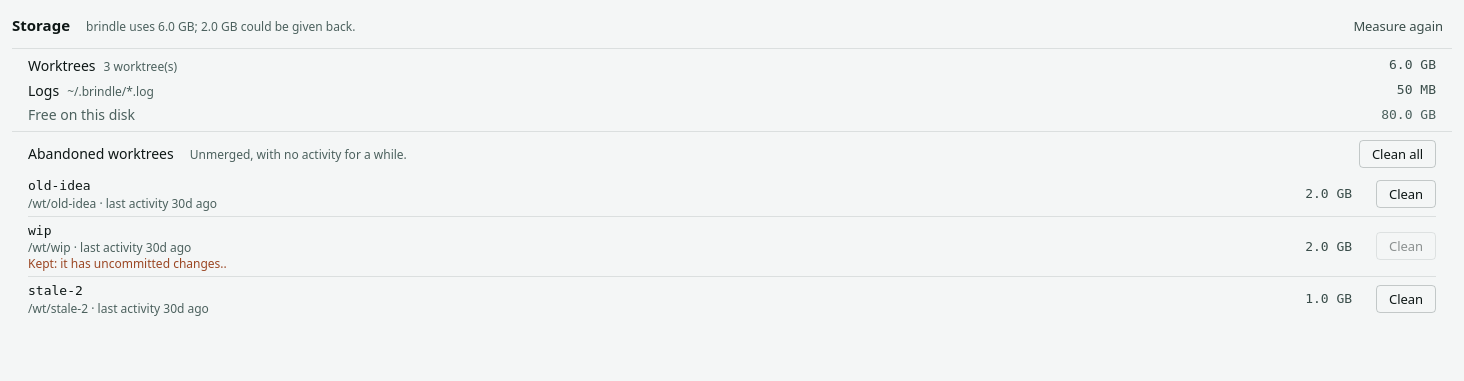
Scenario: Storage › Clean all sends exactly the removable worktrees it showed, one path each
Click the button "Clean all" at (1398, 154), box 1359,140 -> 1436,168
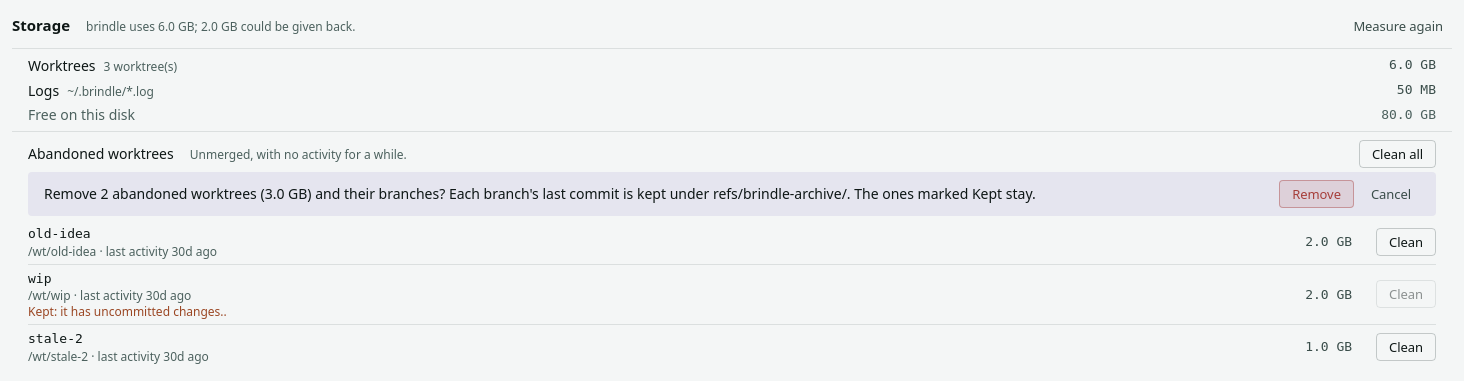
Click the button "Remove" at (1317, 194), box 1279,180 -> 1354,208
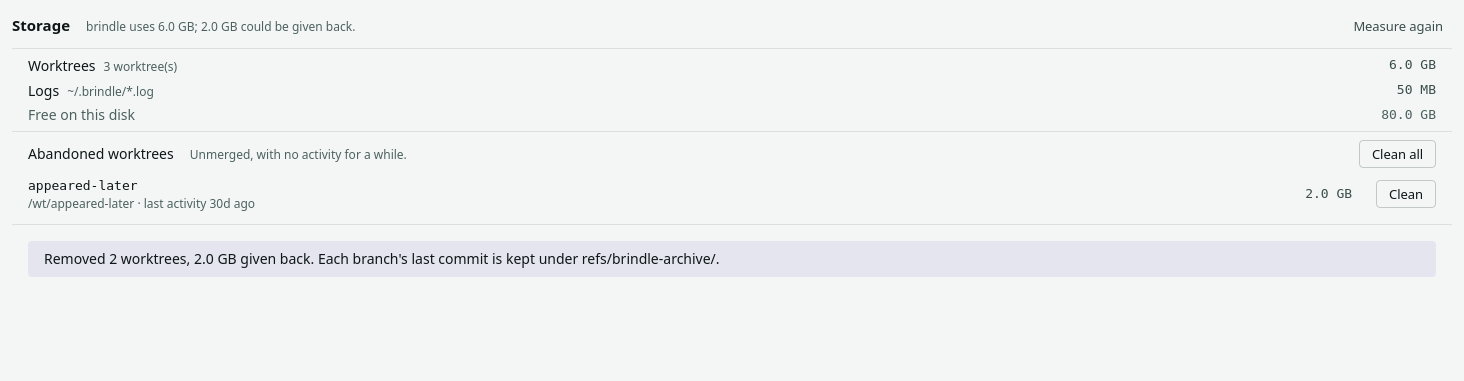
Now the text "Removed 2 worktrees" is shown, box 44,248 -> 720,268
